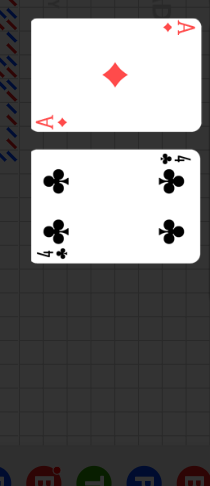4C: (35, 246, 70, 260)
AD: (160, 21, 196, 38)
